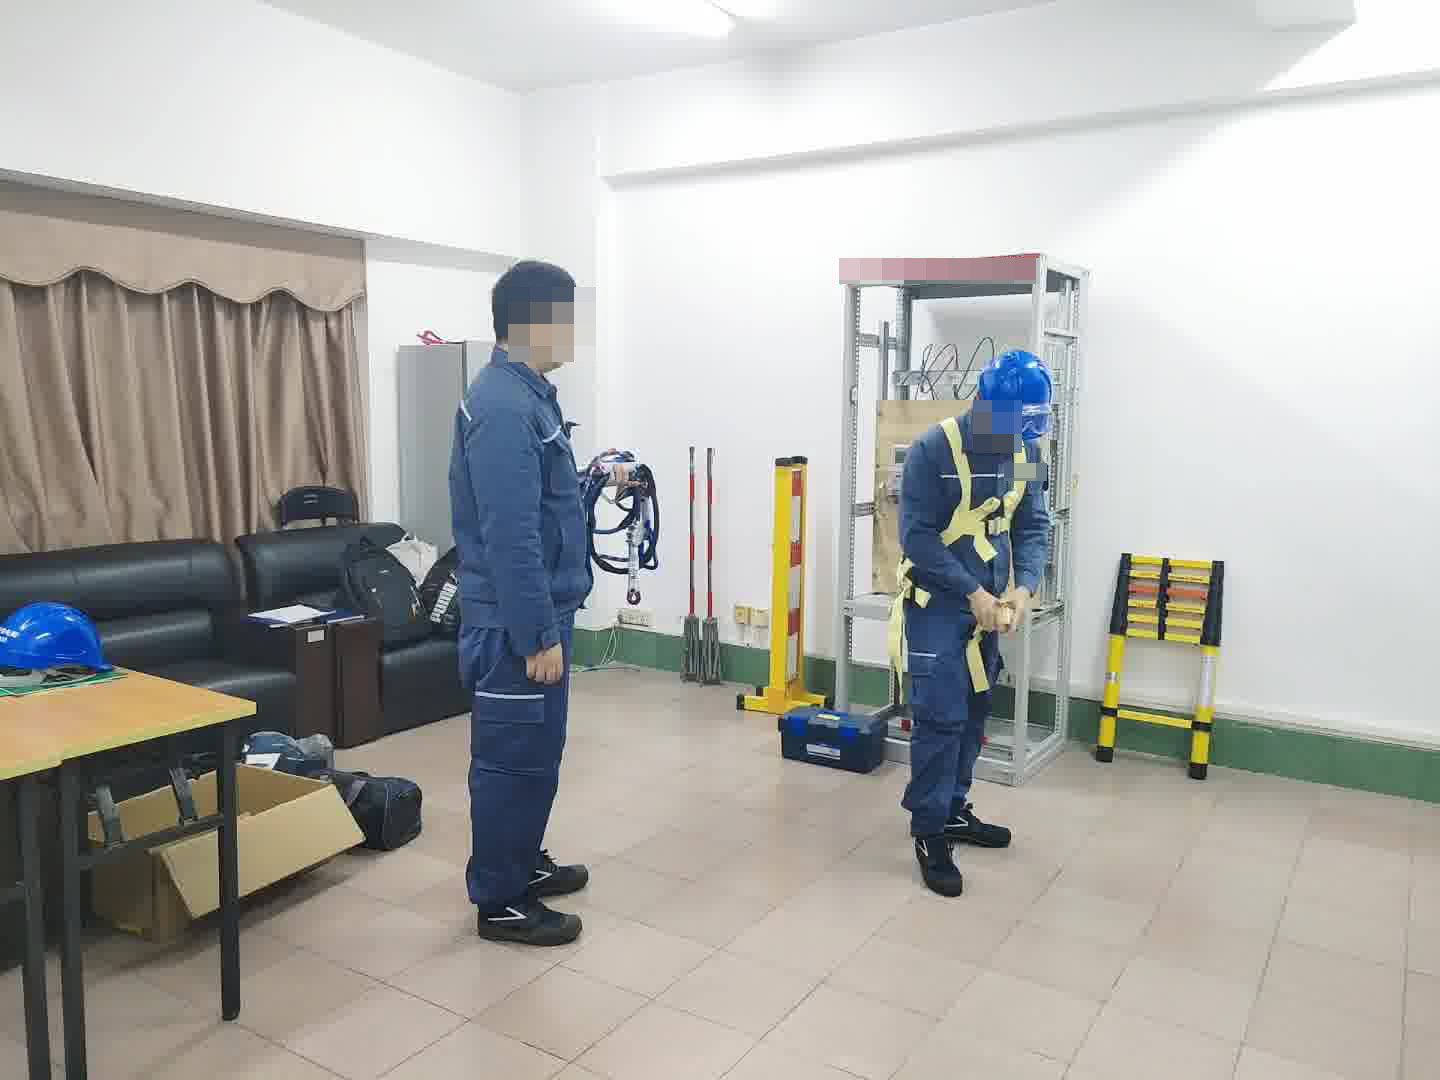downsuit: (455, 627, 577, 903), (903, 598, 994, 828)
halt: (488, 259, 586, 366), (976, 349, 1055, 445)
hand: (965, 582, 1014, 638), (525, 640, 566, 690), (1004, 588, 1031, 632)
noear: (513, 307, 548, 352)
person: (444, 255, 606, 940), (891, 347, 1060, 875)
upsuit: (449, 354, 588, 608), (895, 412, 1053, 579)
